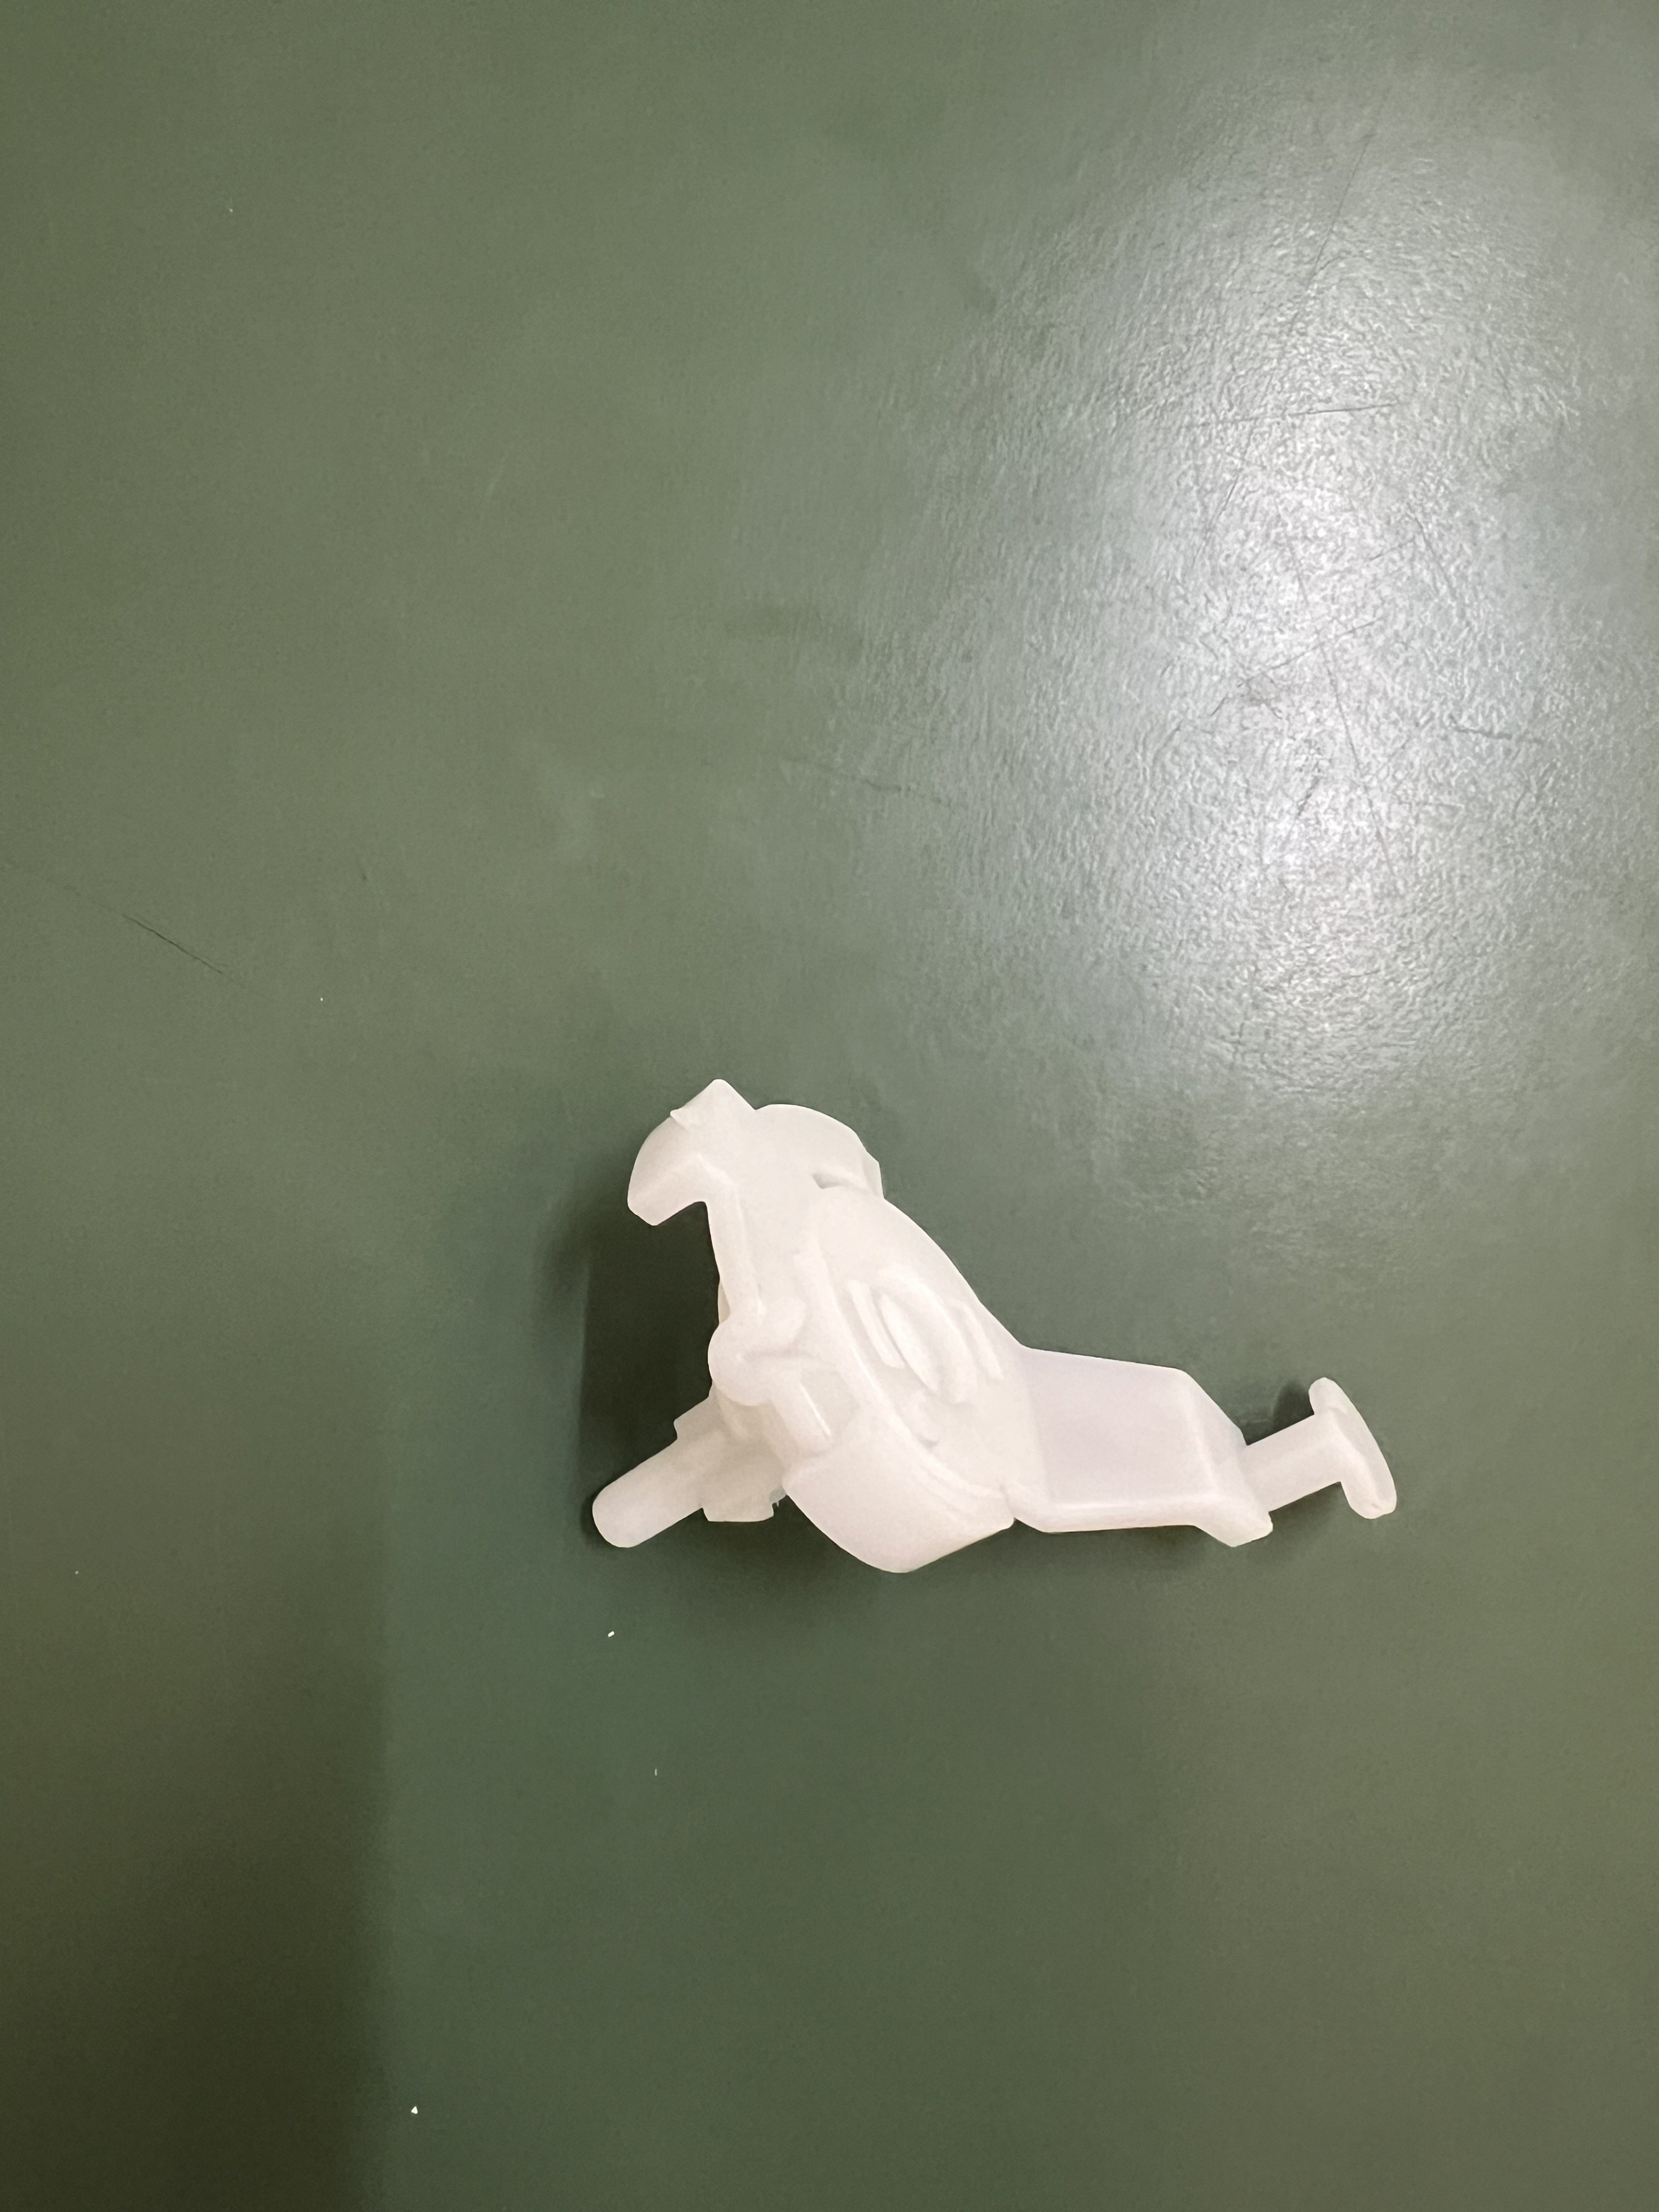drain_lever: (540, 1076, 1403, 1630)
